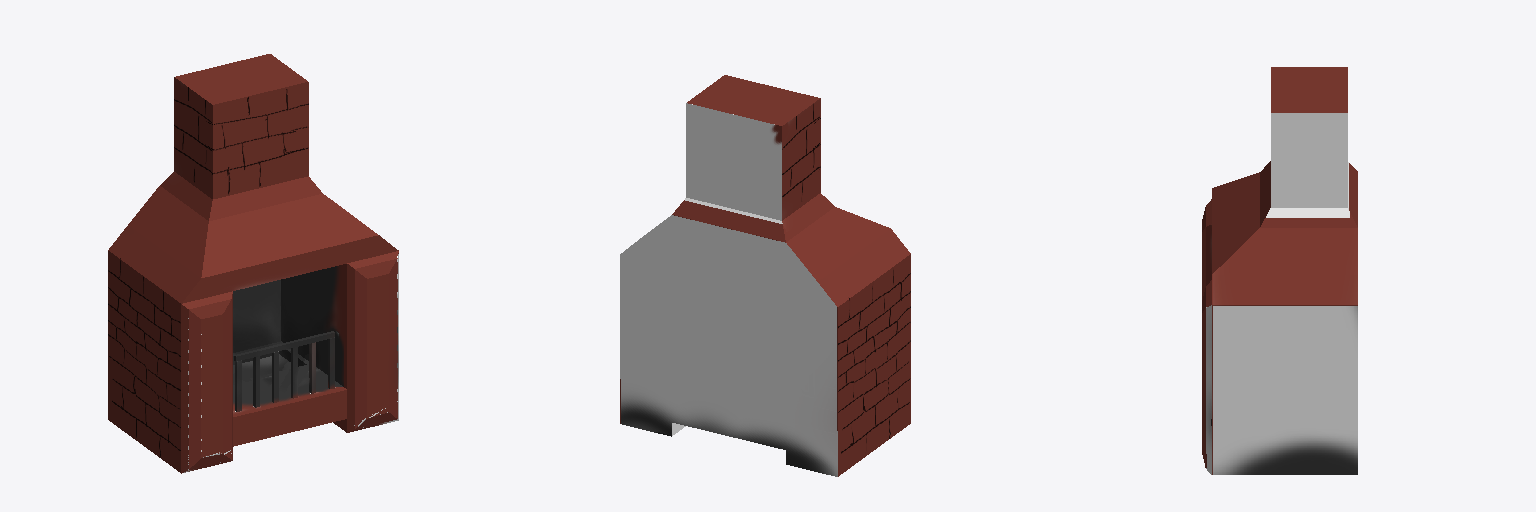
The picture shows the model from 3 angles: view 1: azimuth 30°, elevation 25°; view 2: azimuth 150°, elevation 25°; view 3: azimuth 270°, elevation 25°; orthographic projection.
Parts seen in each view (by area): view 1: fireplace_Cube; view 2: fireplace_Cube; view 3: fireplace_Cube.
Boxes of the visible parts, x1,y1,x2,y2 form: fireplace_Cube: [108, 54, 398, 473]; fireplace_Cube: [620, 75, 910, 476]; fireplace_Cube: [1202, 67, 1357, 474].
Size of the model in its own units: 1.71 by 2.5 by 1.07.
Materials: 1 (1 with a texture image).